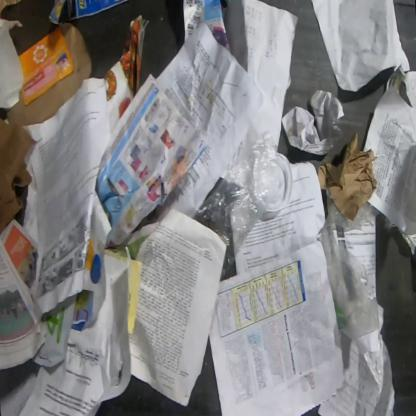cardboard: (6, 21, 92, 127), (0, 116, 38, 236)
rigid_plastic: (265, 152, 292, 212)
soft_plastic: (193, 128, 284, 282), (319, 191, 382, 342)
